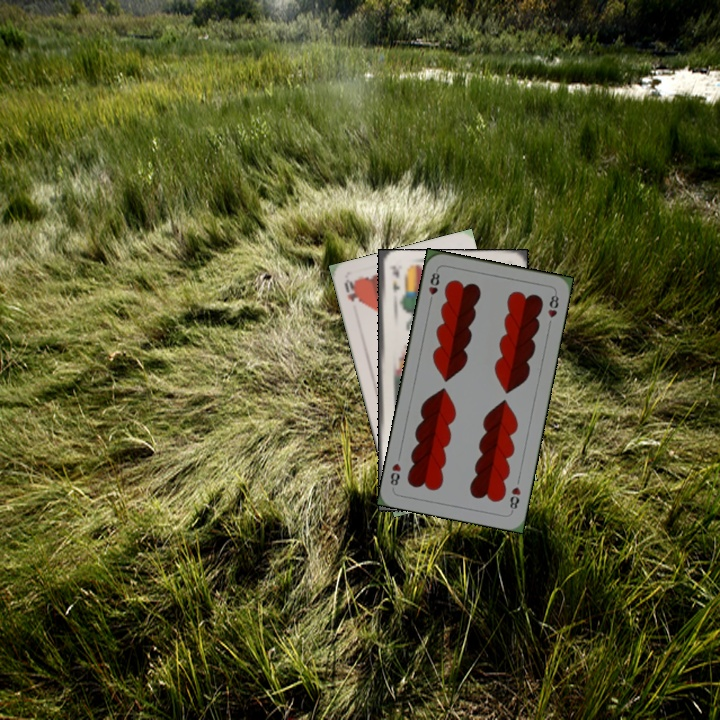EK: (389, 265, 401, 295)
H8: (425, 266, 442, 306), (506, 483, 523, 515)
HO: (340, 276, 361, 305)
